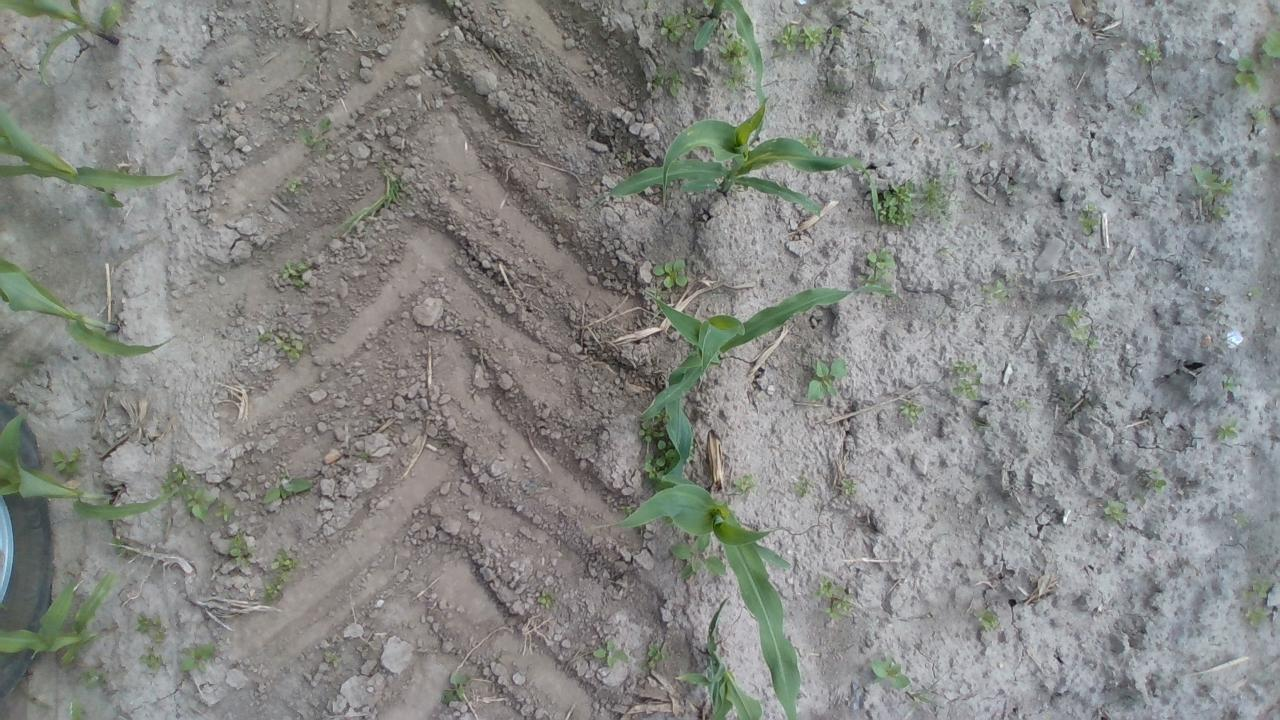Maize: (596, 477, 804, 720), (641, 287, 889, 481), (590, 96, 884, 219), (0, 100, 192, 214), (0, 399, 178, 520), (0, 255, 177, 354), (672, 594, 762, 720), (692, 0, 767, 146), (0, 570, 114, 664), (0, 0, 121, 78)
Weeds: (671, 530, 728, 579), (921, 167, 958, 226), (806, 358, 852, 404), (875, 181, 917, 229), (264, 470, 313, 505), (182, 482, 216, 523), (375, 162, 407, 204), (342, 200, 384, 232), (869, 653, 906, 688), (297, 115, 331, 152), (1190, 165, 1222, 204), (1232, 53, 1261, 96), (720, 28, 751, 66), (228, 532, 258, 568), (642, 453, 669, 493), (277, 256, 310, 288), (638, 407, 666, 444), (274, 330, 304, 363), (1257, 27, 1280, 70), (654, 258, 688, 287), (859, 268, 894, 296), (593, 638, 628, 666), (264, 574, 294, 606), (160, 462, 190, 494), (181, 645, 214, 673), (50, 450, 84, 477), (442, 673, 472, 702), (952, 376, 984, 402), (824, 594, 854, 620), (1240, 574, 1272, 598), (975, 606, 1003, 633), (814, 575, 846, 598), (642, 642, 668, 670), (1243, 603, 1272, 628), (1136, 42, 1166, 66), (1077, 203, 1099, 235), (774, 25, 800, 52), (662, 13, 686, 42), (982, 278, 1008, 304), (110, 536, 138, 560), (868, 246, 898, 268), (78, 666, 105, 690), (801, 25, 826, 50), (724, 66, 750, 90), (799, 130, 825, 154), (900, 398, 926, 422), (1146, 467, 1168, 494), (274, 549, 301, 571), (1061, 305, 1084, 329), (1104, 498, 1126, 522), (668, 68, 684, 98), (1218, 418, 1238, 442), (658, 439, 675, 466), (142, 652, 166, 671), (154, 616, 169, 646), (684, 6, 700, 34), (66, 698, 86, 720), (732, 472, 754, 491), (951, 359, 978, 374), (650, 286, 670, 306), (537, 589, 558, 608), (216, 502, 233, 525), (280, 178, 304, 194), (136, 612, 152, 636), (966, 0, 986, 17), (1070, 326, 1092, 341), (652, 63, 665, 88), (1250, 105, 1267, 124), (824, 84, 845, 99), (14, 356, 36, 370), (1212, 205, 1230, 222), (795, 477, 810, 497), (1006, 52, 1024, 68), (840, 476, 855, 495), (970, 415, 989, 429), (1129, 103, 1149, 115), (324, 650, 339, 666), (912, 690, 928, 704), (256, 329, 272, 343), (1016, 398, 1034, 410), (1224, 376, 1236, 393), (1220, 178, 1234, 192), (1248, 285, 1260, 300), (620, 152, 632, 166), (640, 0, 656, 10), (832, 26, 844, 38), (1236, 515, 1248, 527), (620, 505, 632, 516), (664, 514, 674, 526), (1086, 337, 1096, 348), (981, 140, 992, 150), (1272, 146, 1280, 159), (1189, 114, 1199, 124), (361, 450, 372, 459), (837, 0, 848, 8), (1062, 393, 1071, 402), (861, 18, 870, 26)
